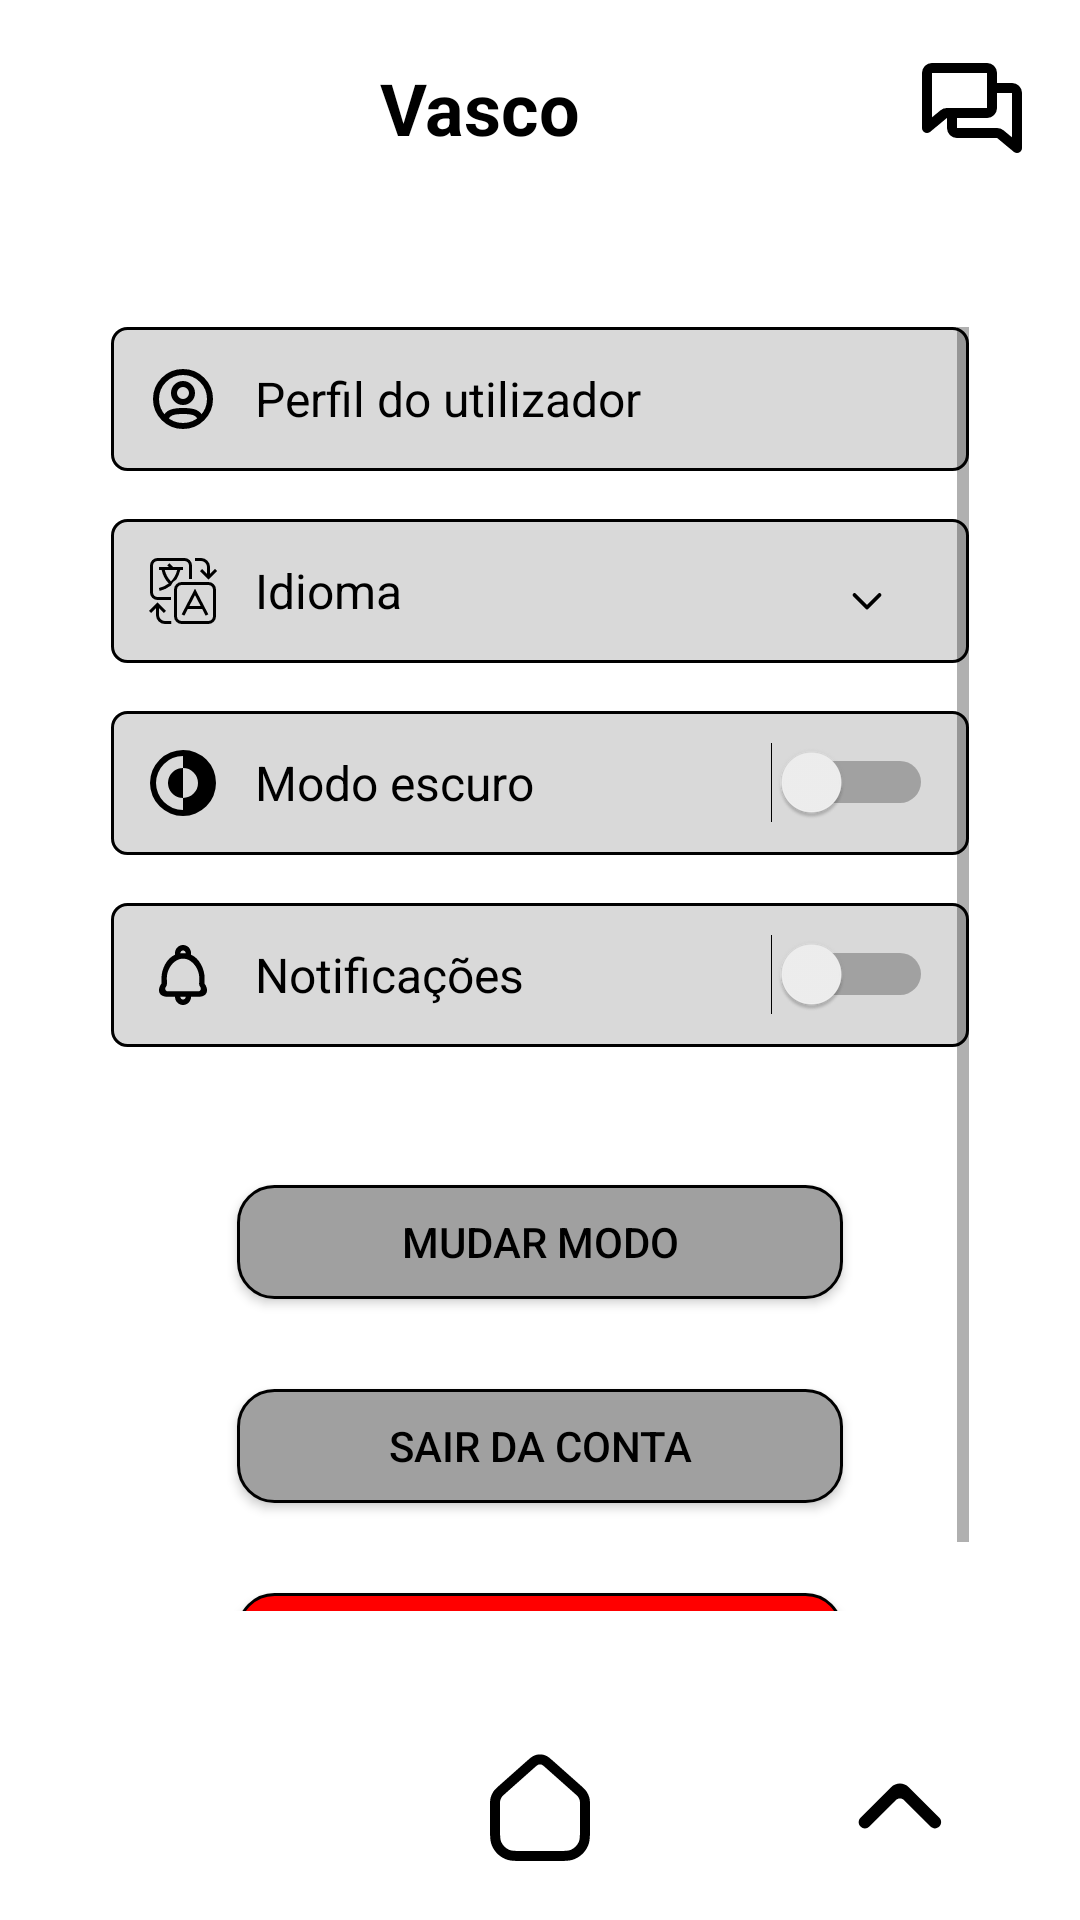

Where to tap for icons on this 1080w x 1920h app screen, as point (x, y):
Chat: point (972, 108)
down arrow: point (867, 601)
home: point (540, 1807)
language: point (183, 591)
notifications: point (183, 975)
theme: point (183, 783)
up arrow: point (899, 1806)
user: point (183, 399)
